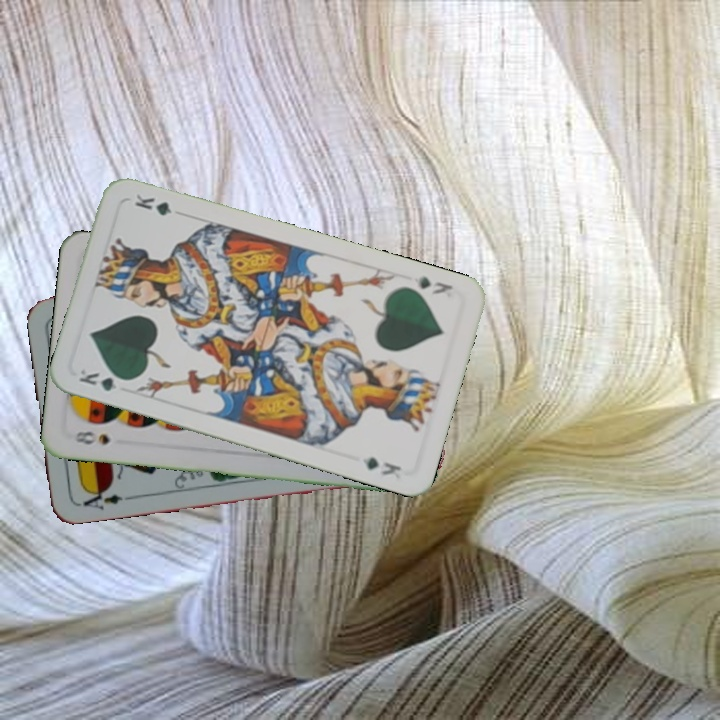EA: (79, 484, 133, 512)
GK: (75, 364, 133, 394), (410, 272, 455, 298)
S8: (71, 427, 113, 448)
